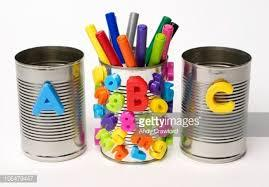Tin: (12, 29, 87, 165), (180, 34, 256, 166)
